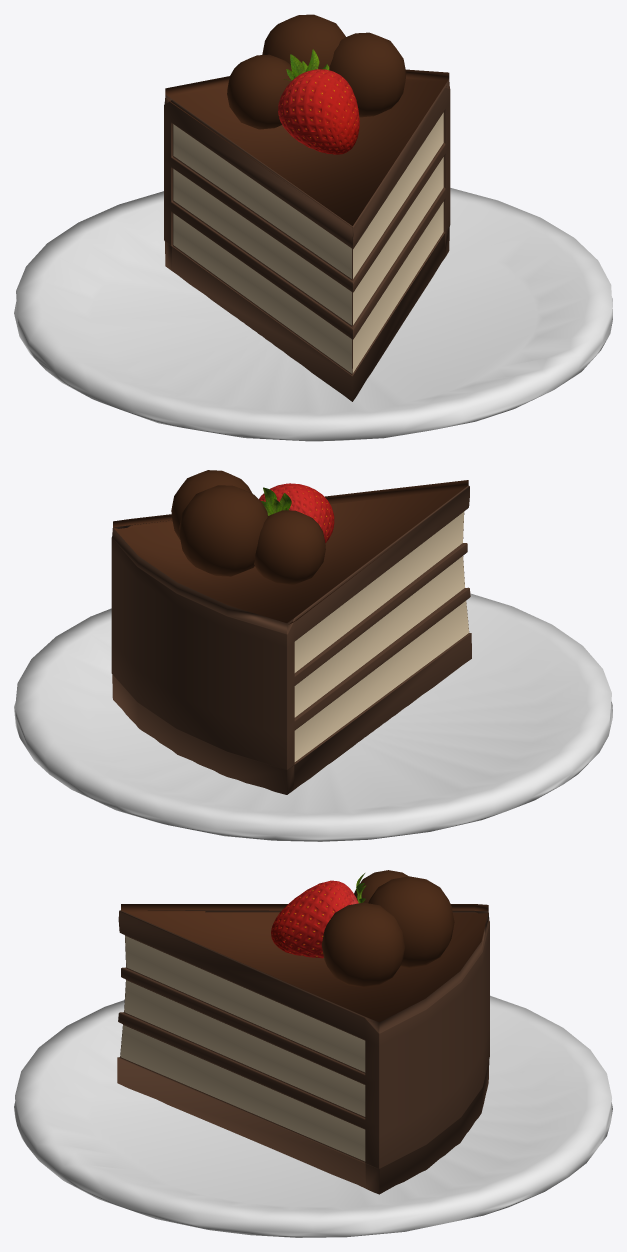
Rendered from boloslice.glb.
3 renders of one model, top to bottom at view 1: azimuth 30°, elevation 25°; view 2: azimuth 150°, elevation 25°; view 3: azimuth 270°, elevation 25°, orthographic.
Visible parts, largest first — view 1: Circle.004_Circle.027, Circle, Circle.001, strawberry.008, BRIGADEIRO.007, BRIGADEIRO.008, BRIGADEIRO.006; view 2: Circle.004_Circle.027, Circle, Circle.001, BRIGADEIRO.006, BRIGADEIRO.008, strawberry.008, BRIGADEIRO.007; view 3: Circle.004_Circle.027, Circle, Circle.001, BRIGADEIRO.007, BRIGADEIRO.006, strawberry.008, BRIGADEIRO.008.
Boxes of the visible parts, bbox=[...] form: Circle.004_Circle.027: bbox=[14, 188, 612, 441]; Circle: bbox=[164, 79, 450, 401]; Circle.001: bbox=[165, 69, 449, 225]; strawberry.008: bbox=[278, 49, 359, 154]; BRIGADEIRO.007: bbox=[329, 32, 406, 117]; BRIGADEIRO.008: bbox=[227, 54, 291, 129]; BRIGADEIRO.006: bbox=[262, 14, 345, 69]; Circle.004_Circle.027: bbox=[14, 593, 612, 841]; Circle: bbox=[111, 486, 471, 794]; Circle.001: bbox=[113, 480, 468, 624]; BRIGADEIRO.006: bbox=[179, 485, 267, 576]; BRIGADEIRO.008: bbox=[254, 510, 325, 584]; strawberry.008: bbox=[259, 483, 334, 542]; BRIGADEIRO.007: bbox=[171, 470, 252, 539]; Circle.004_Circle.027: bbox=[14, 995, 612, 1237]; Circle: bbox=[117, 910, 489, 1194]; Circle.001: bbox=[121, 904, 488, 1022]; BRIGADEIRO.007: bbox=[321, 902, 404, 987]; BRIGADEIRO.006: bbox=[368, 876, 454, 968]; strawberry.008: bbox=[271, 873, 366, 958]; BRIGADEIRO.008: bbox=[354, 870, 408, 903].
Bounding box in the file's own units: 1.28 × 0.6019 × 1.28.
Materials: 7 (1 with a texture image).
